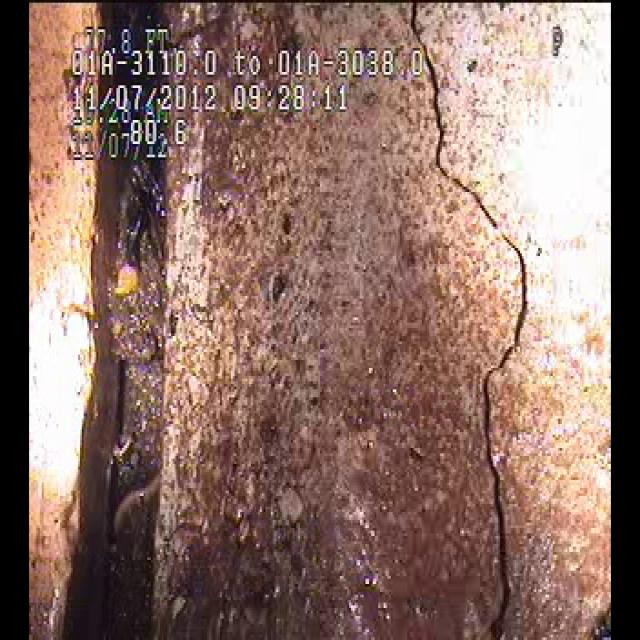Crack: (416, 119, 569, 607)
